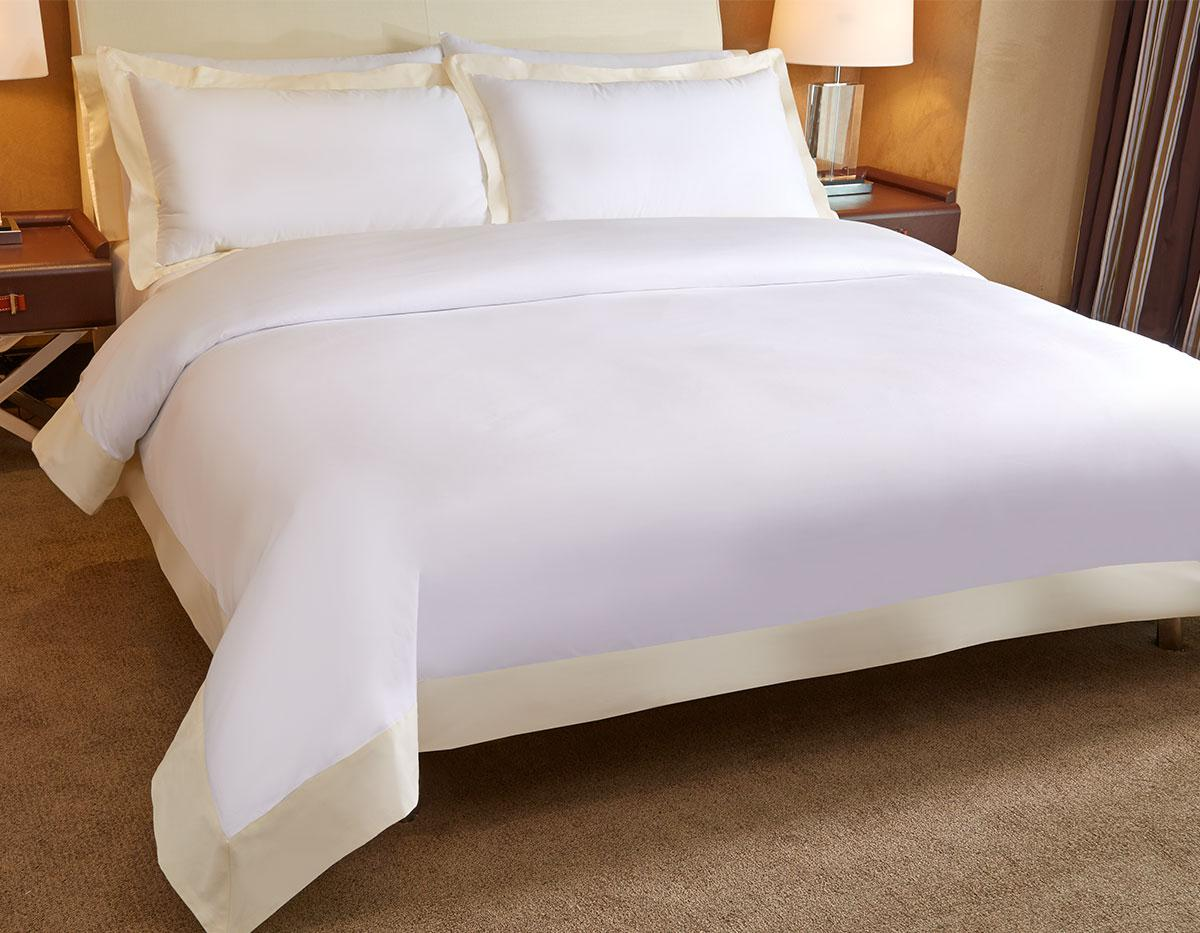bed: (40, 10, 1200, 834)
